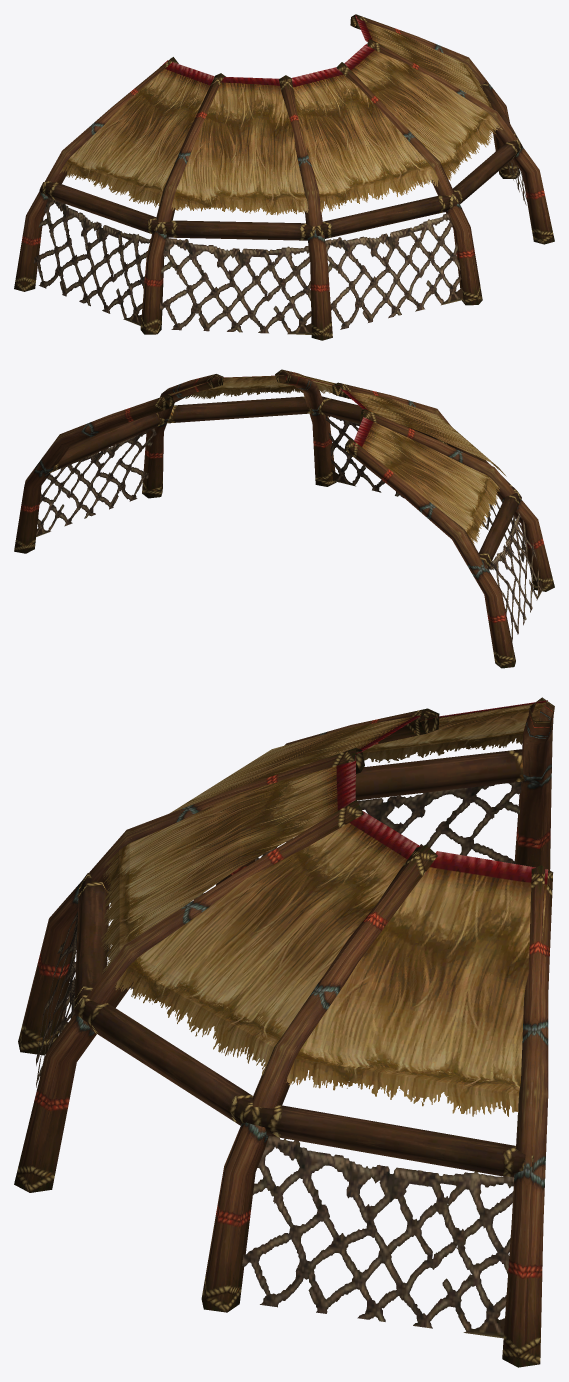
The model's file is environment_Building_caowu_002_a.FBX.
The picture shows the model from 3 angles, top to bottom: view 1: azimuth 30°, elevation 25°; view 2: azimuth 150°, elevation 25°; view 3: azimuth 270°, elevation 25°; orthographic projection. The views are drawn at different scales.
Parts seen in each view (by area): view 1: environment_Building_caowu_002_c, environment_Building_caowu_002_b, environment_Building_caowu_002_a; view 2: environment_Building_caowu_002_a, environment_Building_caowu_002_b, environment_Building_caowu_002_c; view 3: environment_Building_caowu_002_c, environment_Building_caowu_002_a, environment_Building_caowu_002_b.
Boxes of the visible parts, x1=… form: environment_Building_caowu_002_c: x1=59, y1=15, x2=502, y2=215; environment_Building_caowu_002_b: x1=33, y1=82, x2=527, y2=334; environment_Building_caowu_002_a: x1=14, y1=14, x2=554, y2=340; environment_Building_caowu_002_a: x1=14, y1=369, x2=554, y2=668; environment_Building_caowu_002_b: x1=36, y1=396, x2=542, y2=643; environment_Building_caowu_002_c: x1=168, y1=374, x2=506, y2=546; environment_Building_caowu_002_c: x1=101, y1=700, x2=548, y2=1116; environment_Building_caowu_002_a: x1=14, y1=697, x2=554, y2=1367; environment_Building_caowu_002_b: x1=36, y1=749, x2=533, y2=1338.
Bounding box in the file's own units: 951 × 361 × 479.
